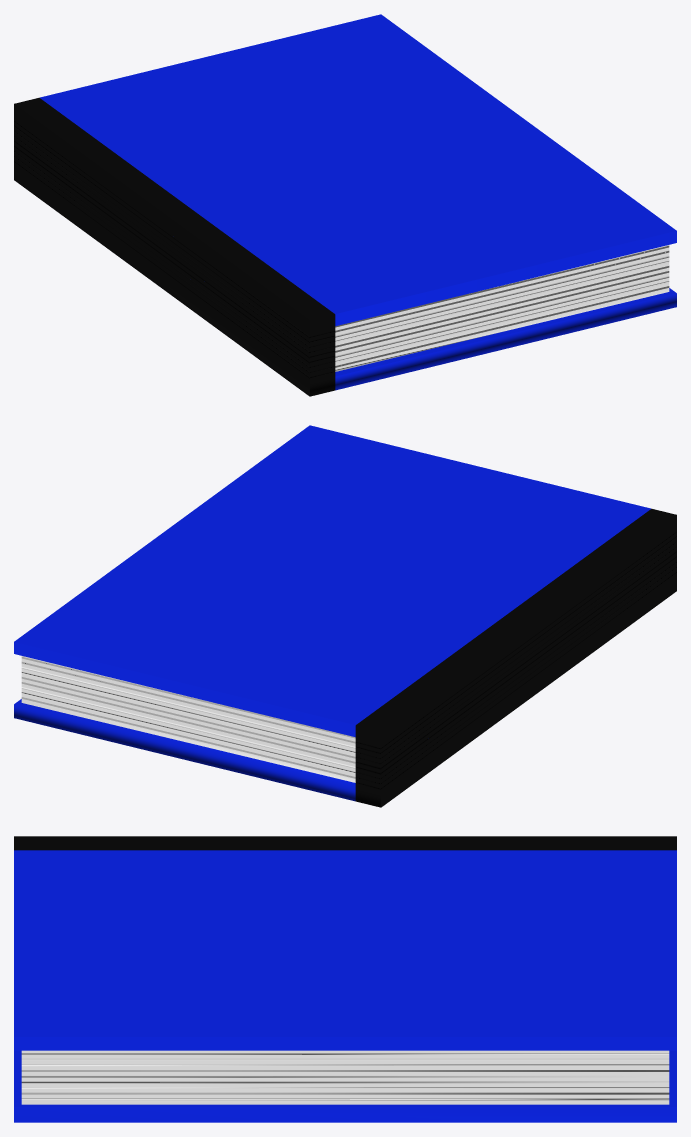
File: 3D BOOK.fbx
3 views of the same model, one above another, from view 1: azimuth 30°, elevation 25°; view 2: azimuth 150°, elevation 25°; view 3: azimuth 270°, elevation 25° (orthographic). The views are drawn at different scales.
Parts seen in each view (by area): view 1: Cube; view 2: Cube; view 3: Cube.
Boxes of the visible parts, x1,y1,x2,y2 form: Cube: (14,14,676,396); Cube: (14,425,676,807); Cube: (14,836,676,1122).
Bounding box in the file's own units: 234 × 46.56 × 327.
